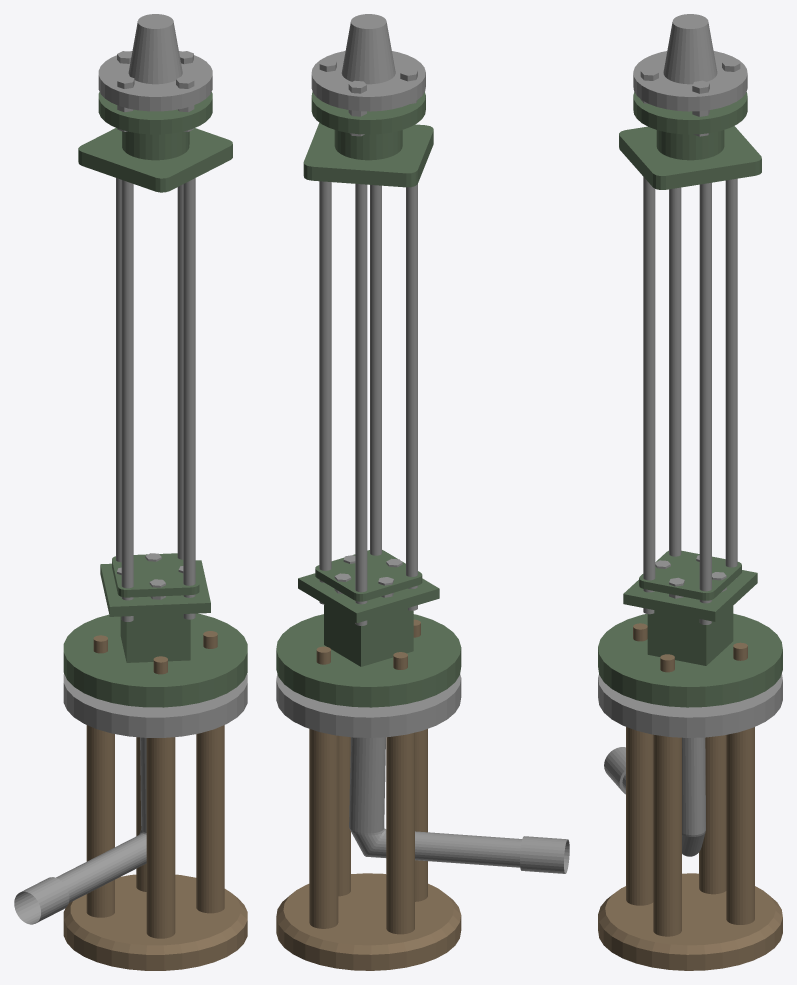
Rendered from trubafixed1.fbx.
3 views of the same model, side by side, from view 1: azimuth 30°, elevation 25°; view 2: azimuth 150°, elevation 25°; view 3: azimuth 270°, elevation 25° (orthographic).
Parts seen in each view (by area): view 1: green_thing:Circle1; view 2: green_thing:Circle1; view 3: green_thing:Circle1.
Part boxes in pixels (x1=…): green_thing:Circle1: x1=14, y1=14, x2=247, y2=970; green_thing:Circle1: x1=276, y1=14, x2=569, y2=970; green_thing:Circle1: x1=598, y1=14, x2=782, y2=970.
Size of the model in its own units: 40.12 by 141 by 25.86.
